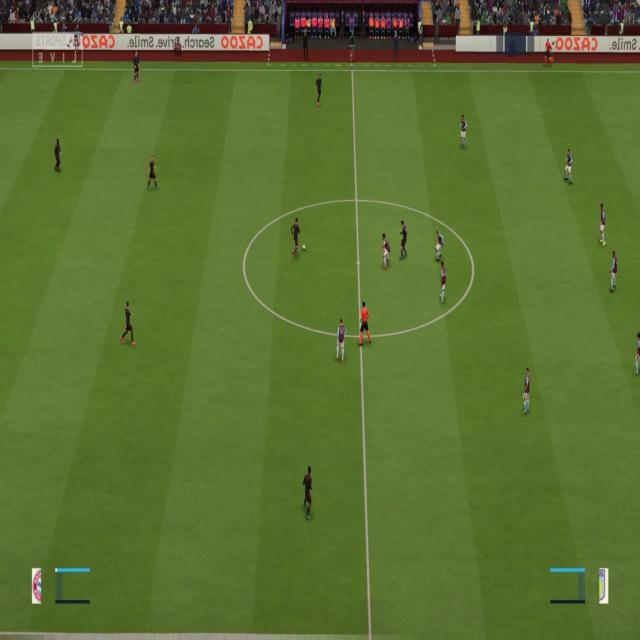Ball: (302, 245, 306, 251)
Referee: (358, 301, 372, 346)
Team-A: (120, 300, 136, 346), (303, 465, 314, 522), (147, 155, 159, 190), (291, 217, 301, 258), (398, 220, 408, 260), (54, 138, 64, 172), (315, 73, 323, 107), (132, 51, 140, 83)
Team-H: (335, 318, 347, 362), (608, 250, 618, 293), (379, 232, 390, 269), (598, 204, 607, 246), (522, 368, 530, 415), (439, 261, 447, 304), (564, 149, 573, 185), (435, 228, 444, 262), (460, 114, 468, 149), (634, 332, 640, 374)
